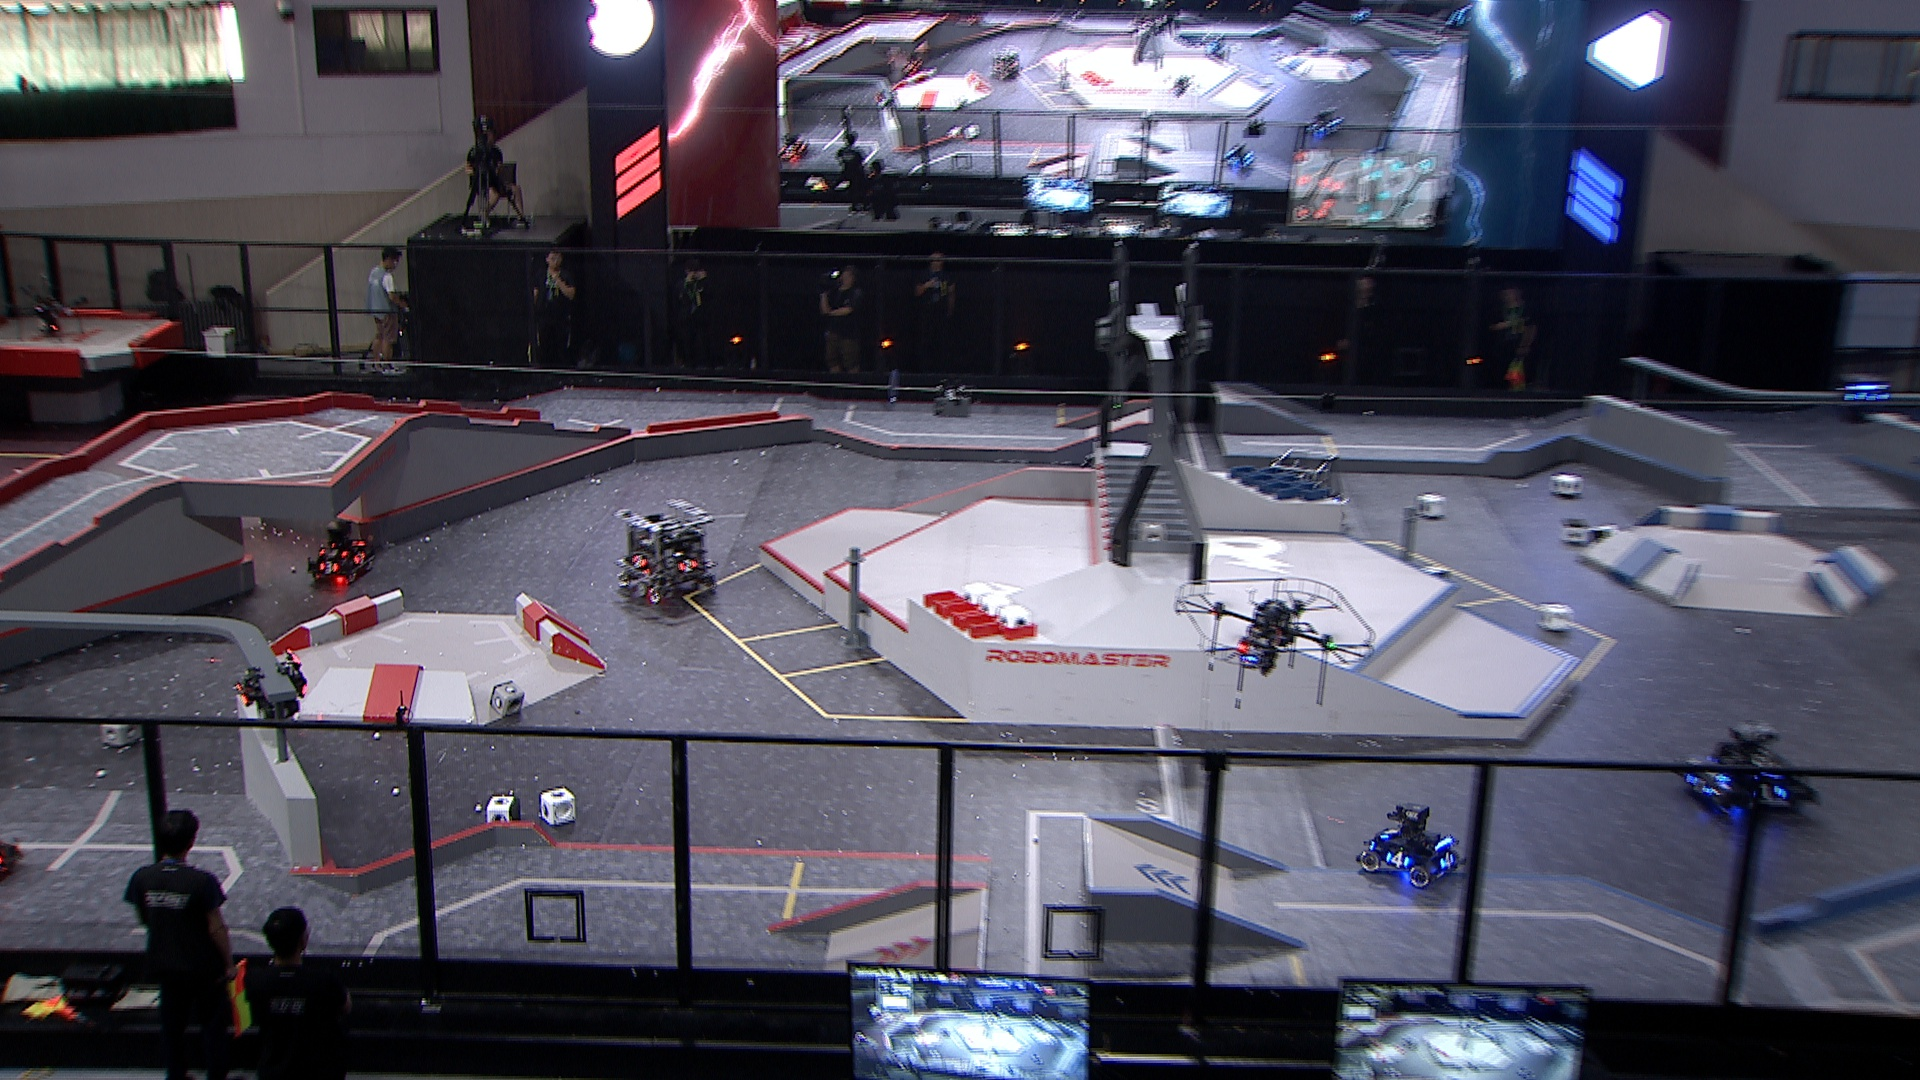armor: (1751, 779, 1788, 806), (233, 674, 251, 712), (1684, 770, 1705, 798), (1385, 847, 1408, 869), (1436, 849, 1458, 870), (318, 545, 347, 560), (351, 546, 371, 567), (315, 560, 342, 575), (675, 559, 699, 575), (632, 551, 650, 571), (1377, 822, 1396, 840)
car: (1675, 717, 1822, 827), (617, 498, 716, 600), (1356, 800, 1460, 887), (1269, 446, 1349, 527), (305, 518, 377, 589)
ignore: (1305, 105, 1346, 138), (775, 131, 812, 164), (1222, 138, 1255, 171), (992, 49, 1022, 82), (1443, 7, 1472, 40), (897, 49, 924, 74)
watcher: (229, 650, 309, 733), (1836, 371, 1888, 429)
